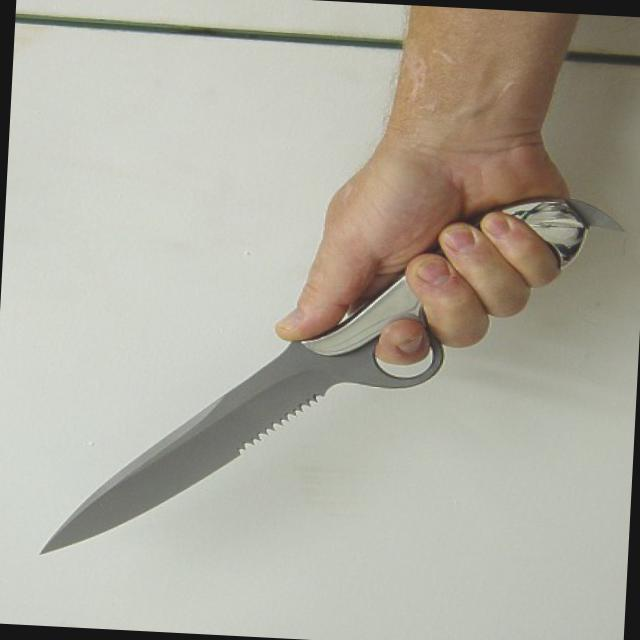knife: (28, 185, 519, 582)
